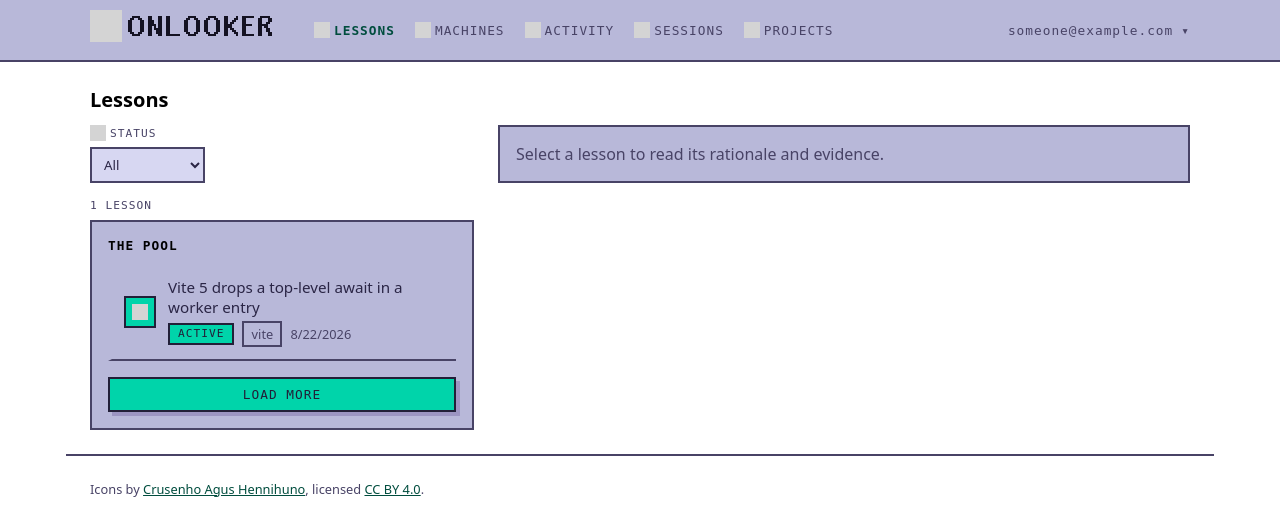
Test: paging past the first page › starts over when the filter changes
The width and height of the screenshot is (1280, 514).
Expected: the text "Vite 5 drops a top-level await in a worker entry" is shown, [168, 277, 402, 317]
Expected: the button "Load more" is shown, [108, 377, 456, 412]
Select "Retracted" in the dropdown labelled "Status" at (148, 165), box [90, 147, 205, 183]
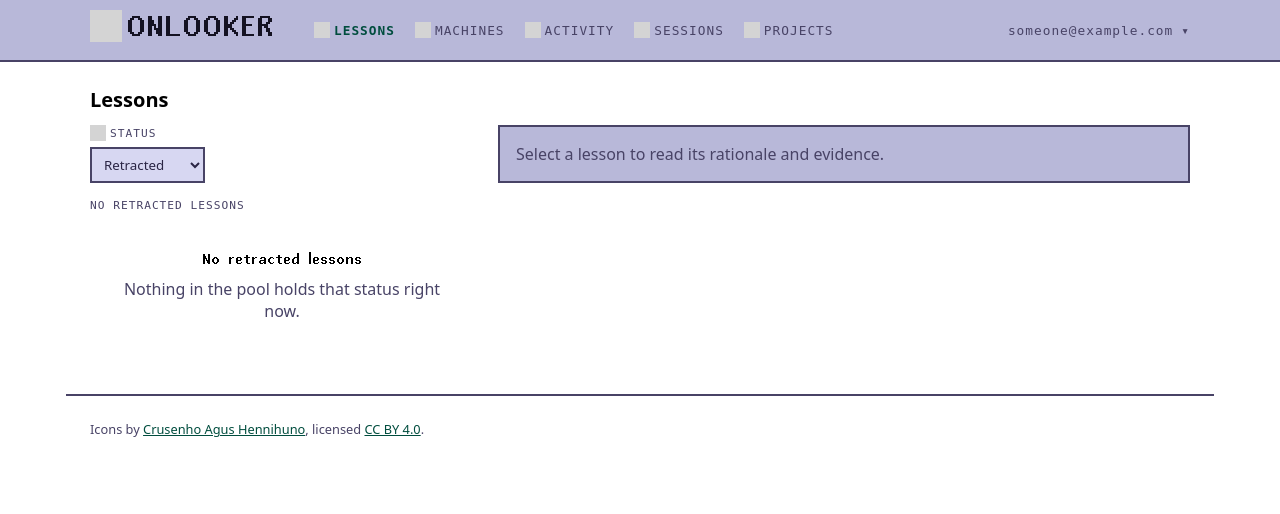
Now the button "Load more" is gone
